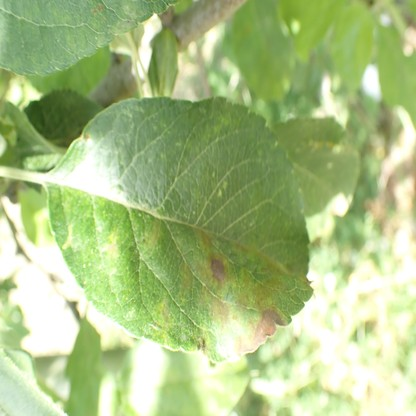scab: (20, 4, 142, 53), (228, 270, 285, 351), (170, 116, 233, 173), (194, 231, 228, 293), (199, 293, 230, 326), (231, 242, 256, 265), (102, 229, 119, 260), (179, 266, 191, 306), (147, 216, 162, 247), (157, 298, 172, 327), (258, 259, 279, 275)
